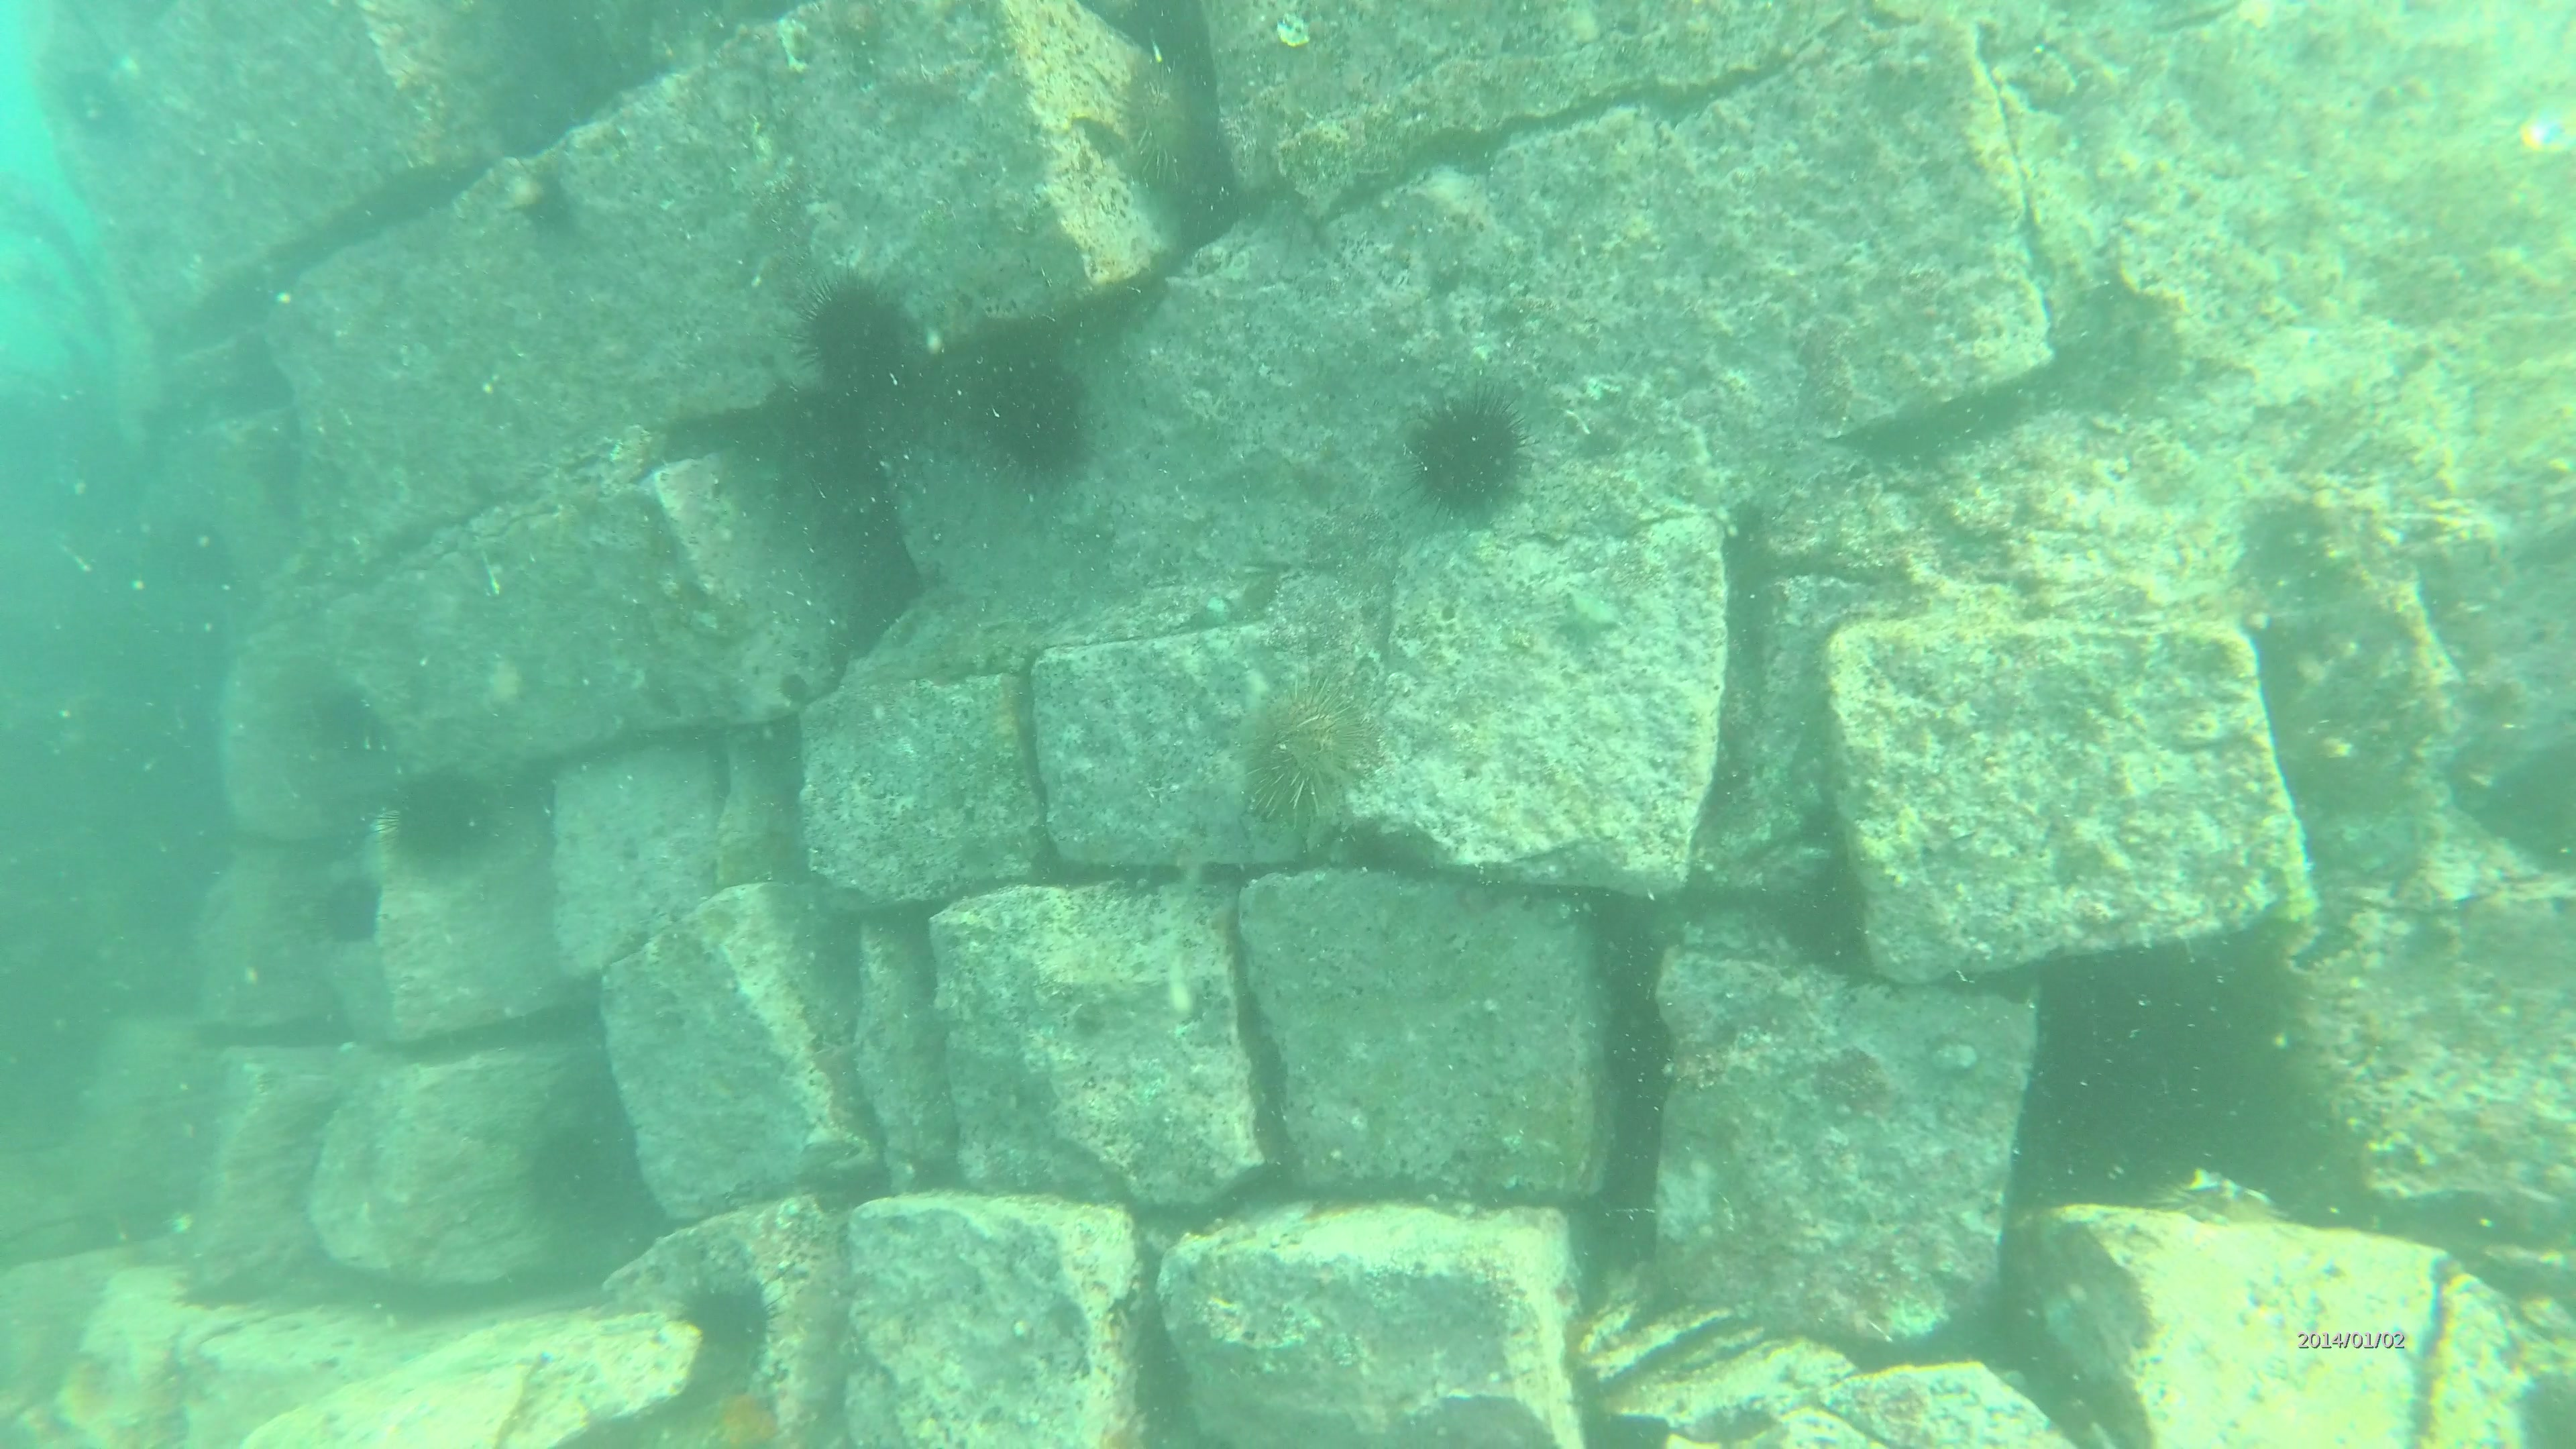echinus: (1246, 669, 1376, 840), (1407, 384, 1557, 533), (786, 262, 916, 416), (961, 343, 1097, 481), (387, 759, 506, 878), (304, 672, 398, 755), (161, 518, 241, 586), (313, 883, 391, 950), (50, 62, 117, 134)
